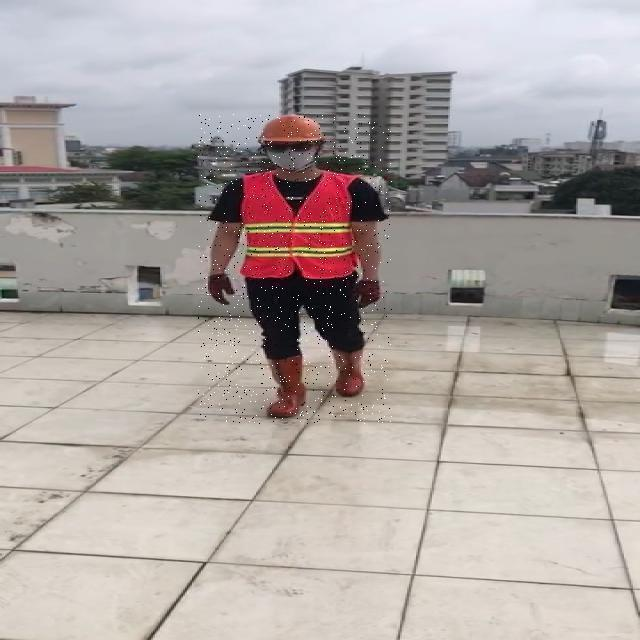gloves: (350, 278, 381, 310), (205, 272, 235, 305)
goggles: (262, 143, 323, 154)
helmet: (257, 112, 330, 143)
safety_vest: (239, 171, 364, 278)
